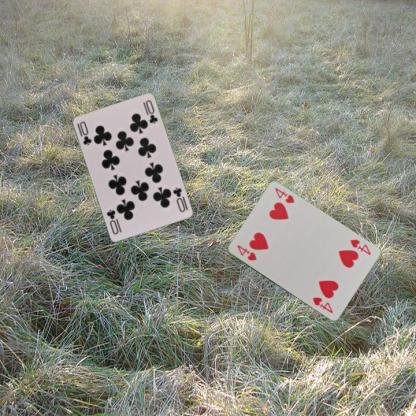10c: (169, 184, 189, 214), (77, 119, 92, 146)
4h: (234, 242, 258, 262), (347, 237, 372, 256)
